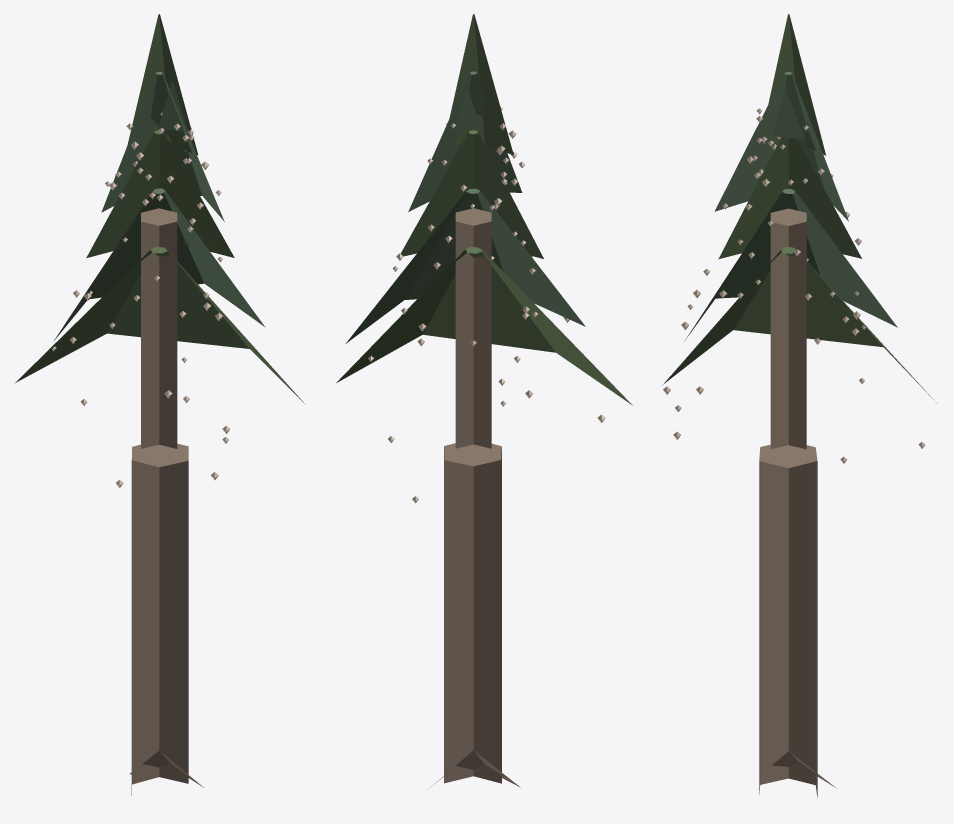
The model's file is shu.hongpi@flowering__summer.glb.
3 views of the same model, side by side, from view 1: azimuth 30°, elevation 25°; view 2: azimuth 150°, elevation 25°; view 3: azimuth 270°, elevation 25° (orthographic).
Parts seen in each view (by area): view 1: shu.hongpi@flowering__summer; view 2: shu.hongpi@flowering__summer; view 3: shu.hongpi@flowering__summer.
Boxes of the visible parts, left/top/right/bottom form: shu.hongpi@flowering__summer: left=14, top=14, right=304, bottom=795; shu.hongpi@flowering__summer: left=336, top=14, right=632, bottom=788; shu.hongpi@flowering__summer: left=663, top=14, right=936, bottom=798.
Bounding box in the file's own units: 6.51 × 19.56 × 6.32.
